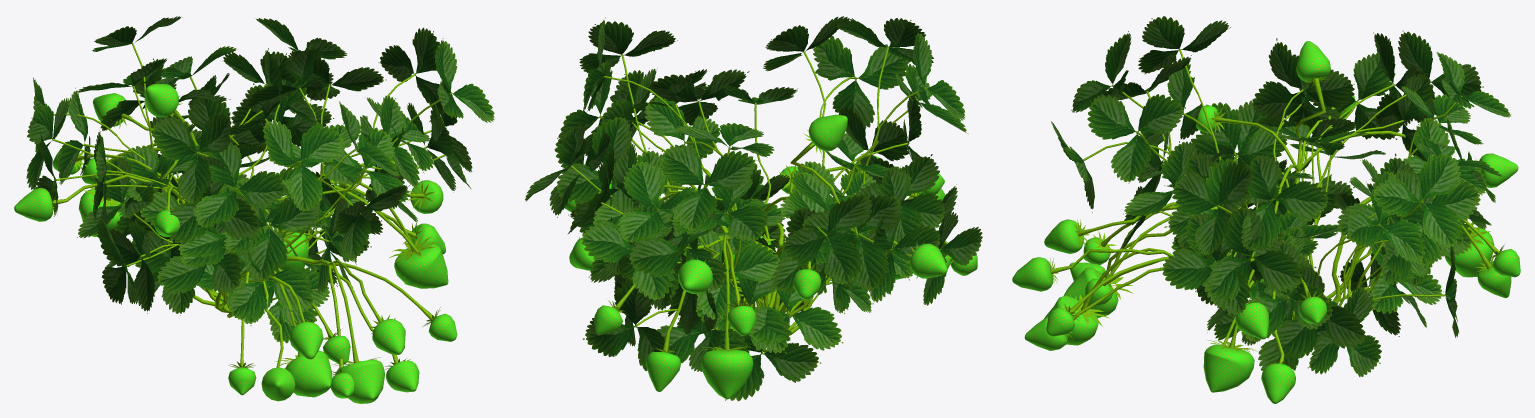
File: strawberry_unripe.obj
The picture shows the model from 3 angles, left to right: view 1: azimuth 30°, elevation 25°; view 2: azimuth 150°, elevation 25°; view 3: azimuth 270°, elevation 25°; orthographic projection. The views are drawn at different scales.
Parts seen in each view (by area): view 1: Strawberry_001; view 2: Strawberry_001; view 3: Strawberry_001.
Part boxes in pixels (bbox=[...]): Strawberry_001: bbox=[14, 16, 495, 403]; Strawberry_001: bbox=[525, 16, 982, 401]; Strawberry_001: bbox=[1012, 16, 1520, 403].
Size of the model in its own units: 0.4843 by 0.3214 by 0.5047.
5 materials, 5 textured.
